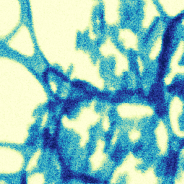hole_empty: (0, 53, 51, 144), (5, 27, 38, 57), (0, 144, 26, 176)
hole_filled: (28, 10, 167, 95), (57, 95, 171, 182)
